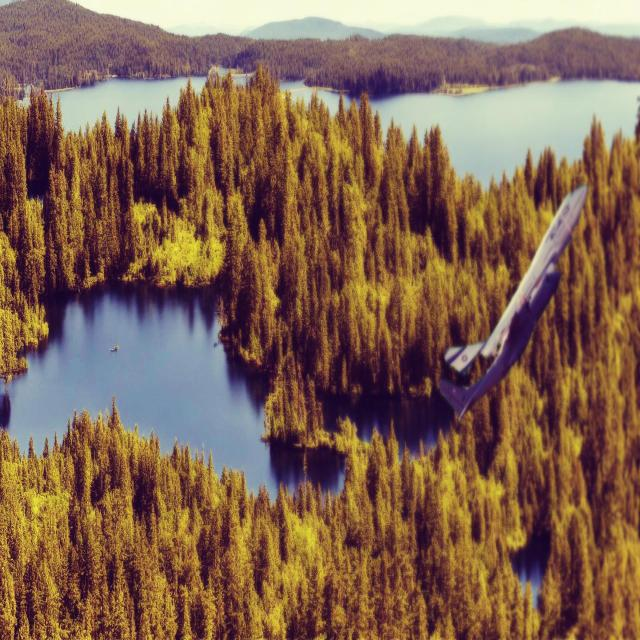airplane: (439, 182, 588, 421)
